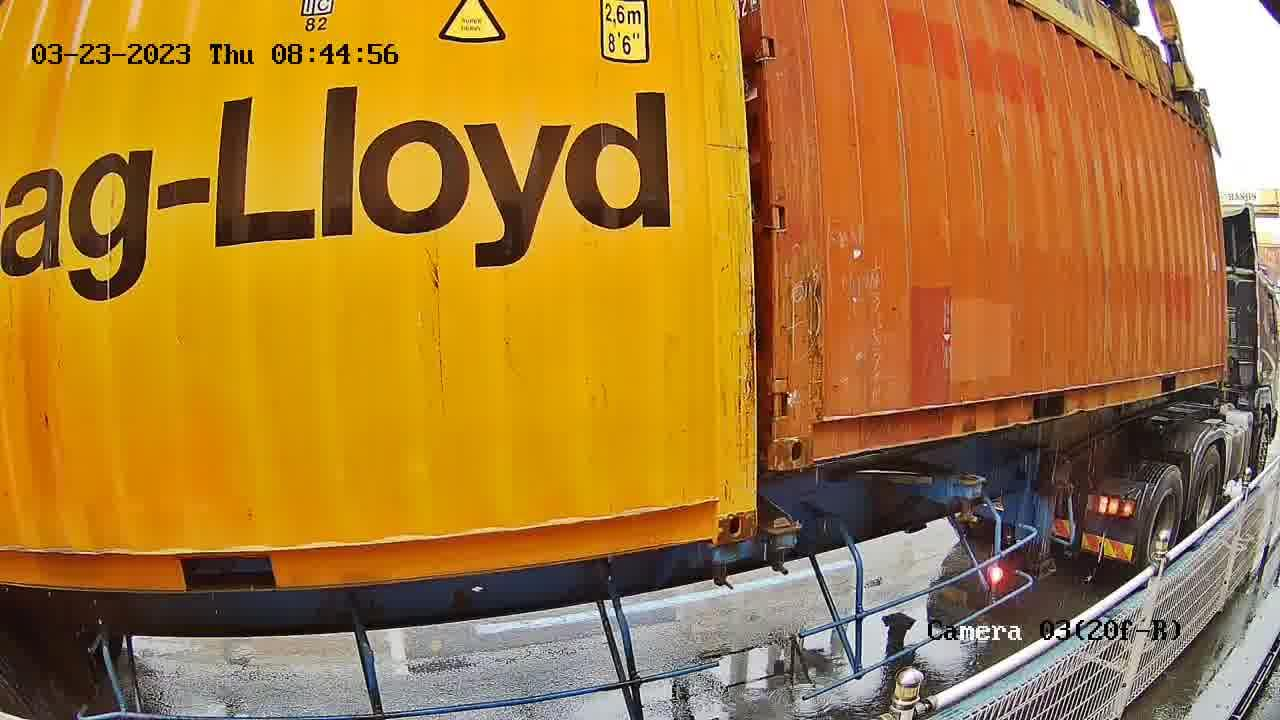Cone: (762, 514, 800, 576), (708, 540, 744, 589)
Hole_L: (772, 389, 840, 471)
Hole_R: (675, 466, 757, 545)
Tire: (1136, 466, 1181, 574), (1190, 447, 1223, 541)
